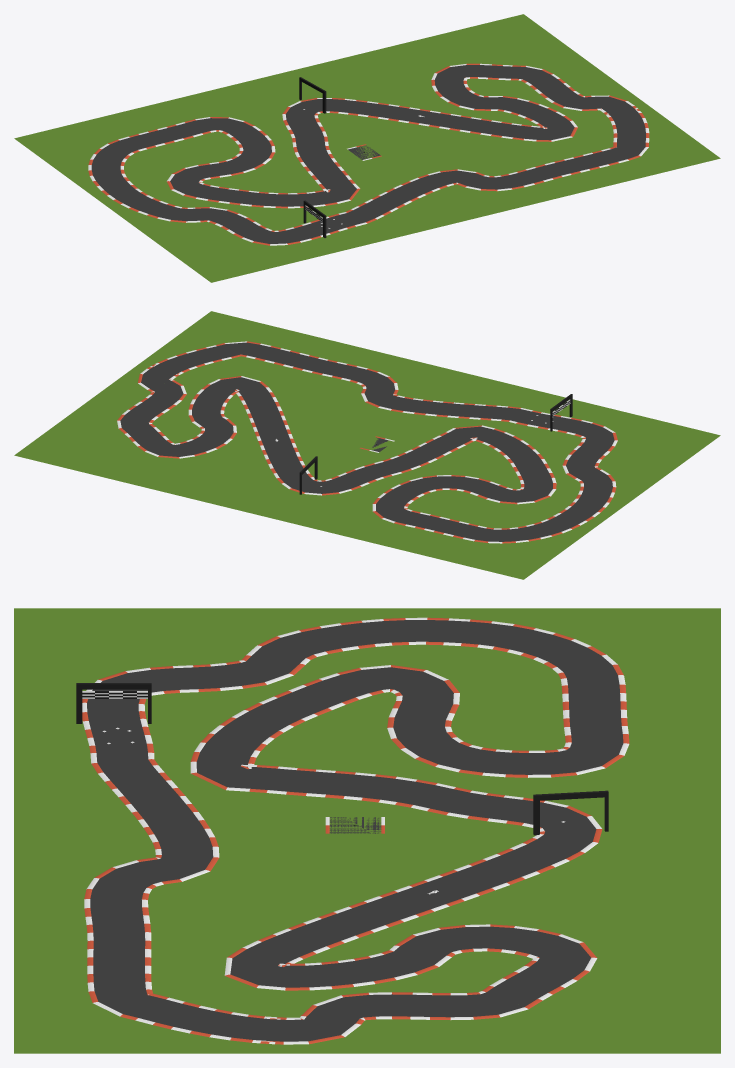
The model's file is f1-track-2.gltf.
3 renders of one model, top to bottom at view 1: azimuth 30°, elevation 25°; view 2: azimuth 150°, elevation 25°; view 3: azimuth 270°, elevation 25°, orthographic. The views are drawn at different scales.
Parts seen in each view (by area): view 1: ground, road; view 2: ground, road; view 3: ground, road, goal, checkpoint, ghost-hidden-r0ad.
Part boxes in pixels (bbox=[...]): ground: bbox=[14, 14, 720, 282]; road: bbox=[88, 63, 649, 245]; ground: bbox=[14, 311, 720, 579]; road: bbox=[117, 341, 617, 543]; ground: bbox=[14, 608, 720, 1053]; road: bbox=[82, 617, 629, 1044]; goal: bbox=[76, 683, 151, 723]; checkpoint: bbox=[533, 790, 608, 835]; ghost-hidden-r0ad: bbox=[325, 817, 384, 833].
Size of the model in its own units: 658 by 34.66 by 441.
4 materials, 4 textured.
